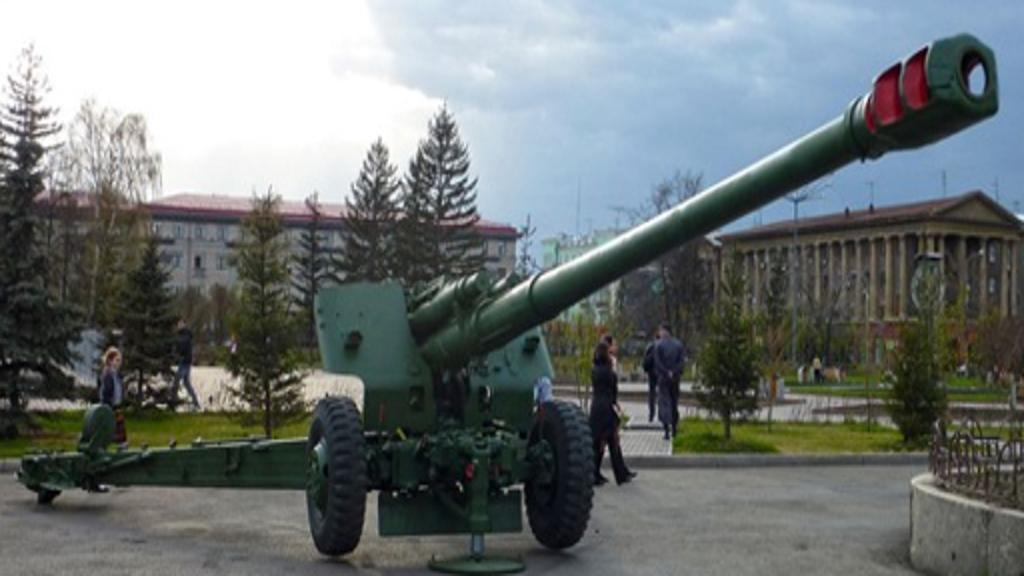ART: (14, 33, 998, 566)
